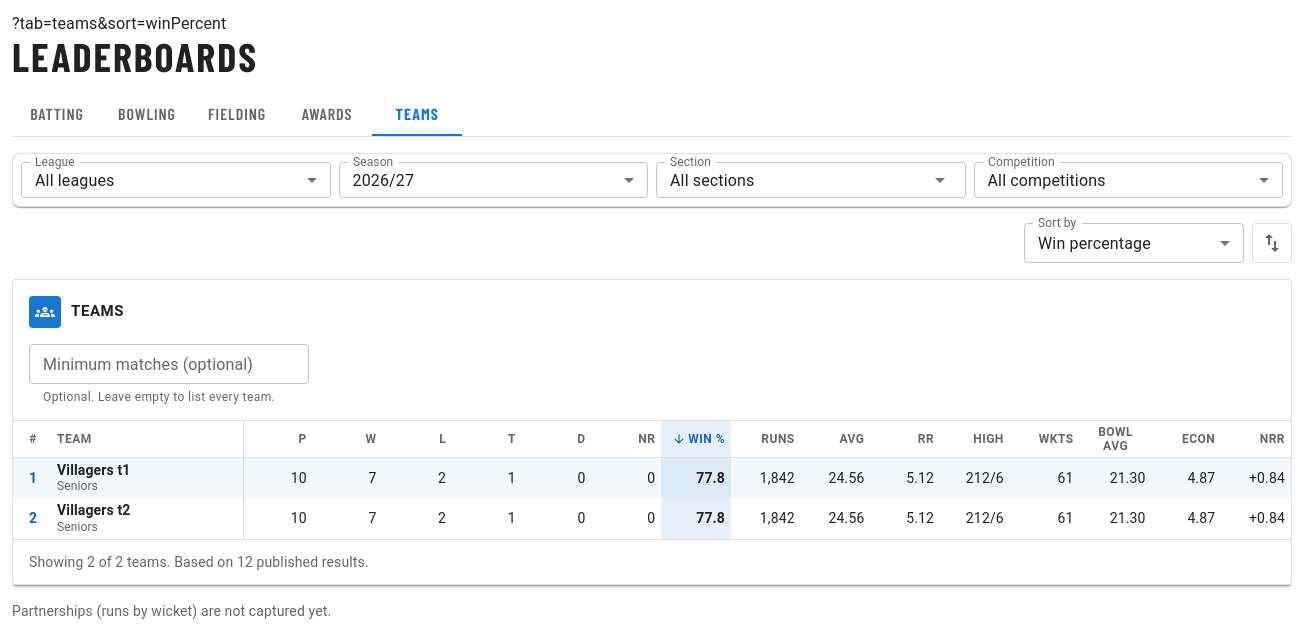
Scenario: Teams tab › the minimum › is shown empty on a rate sort; typing refetches after a debounce, and Clear removes it
Type "3" into the field named "Minimum matches".
click(169, 364); type("3")  # box [29,344,309,384]
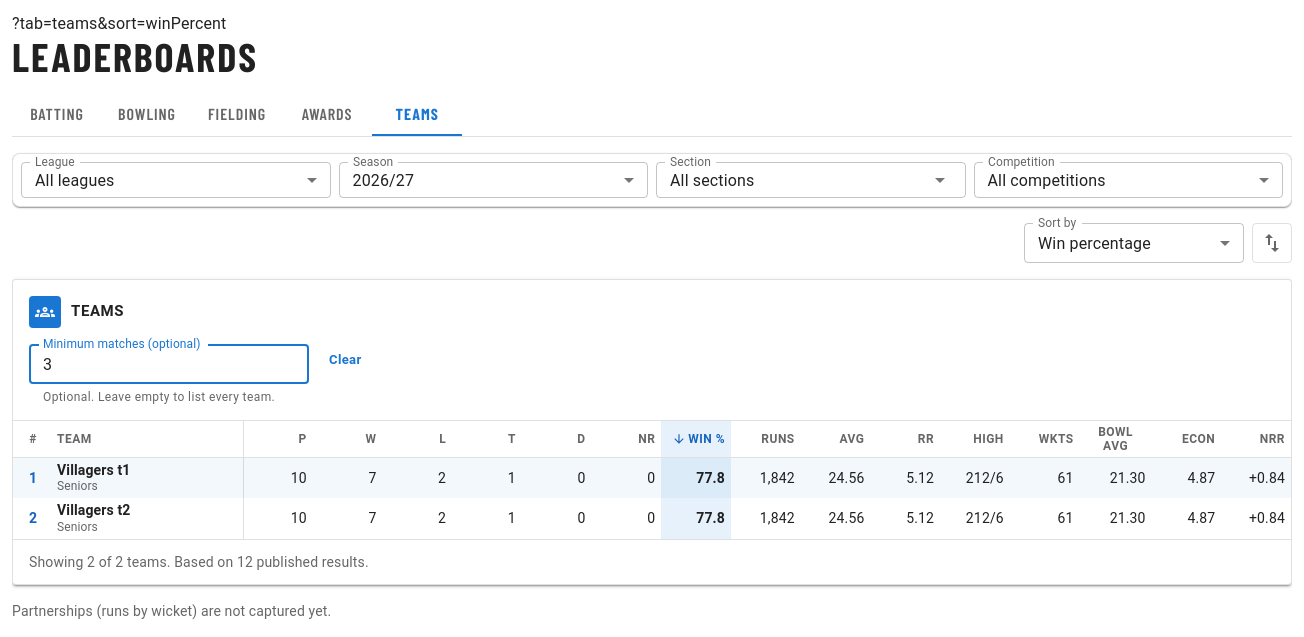
Click the button "Clear".
click(345, 360)  # box [317,344,374,376]
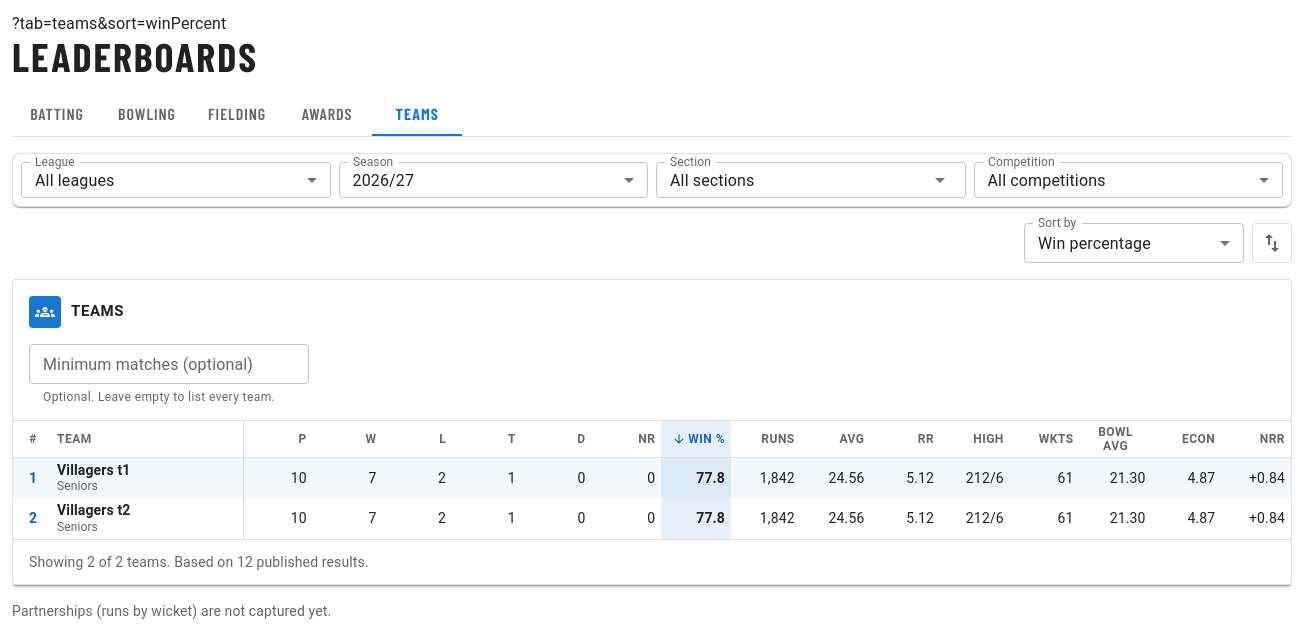
Now the field named "Minimum matches" is empty, box [29,344,309,384]
